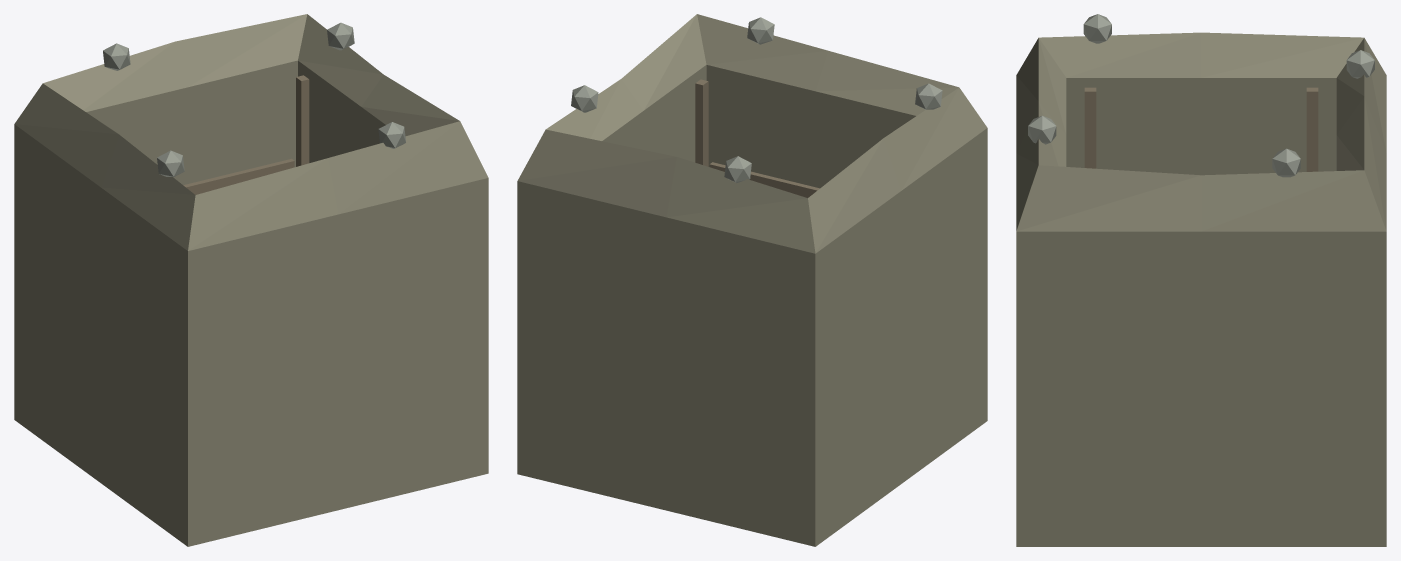
File: trench.glb
3 renders of one model, left to right at view 1: azimuth 30°, elevation 25°; view 2: azimuth 150°, elevation 25°; view 3: azimuth 270°, elevation 25°, orthographic. The views are drawn at different scales.
Visible parts, largest first — view 1: trench; view 2: trench; view 3: trench.
Boxes of the visible parts, box(x1,y1,x2,y2) form: trench: box(14, 14, 488, 546); trench: box(517, 14, 987, 546); trench: box(1016, 14, 1386, 546).
Bounding box in the file's own units: 1 × 1.2 × 1.
